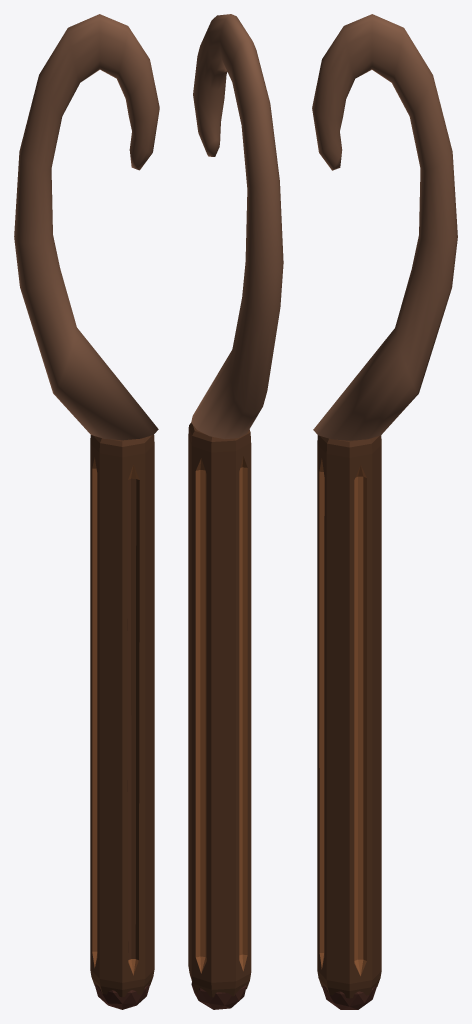
Rendered from Wand 580.glb.
3 views of the same model, side by side, from view 1: azimuth 90°, elevation 25°; view 2: azimuth 210°, elevation 25°; view 3: azimuth 270°, elevation 25° (orthographic).
Visible parts, largest first — view 1: GeneratedWand; view 2: GeneratedWand; view 3: GeneratedWand.
Boxes of the visible parts, box(x1,y1,x2,y2) form: GeneratedWand: box(14, 14, 159, 1009); GeneratedWand: box(188, 14, 283, 1009); GeneratedWand: box(312, 14, 457, 1009).
Bounding box in the file's own units: 0.0289 × 0.4921 × 0.0654.
